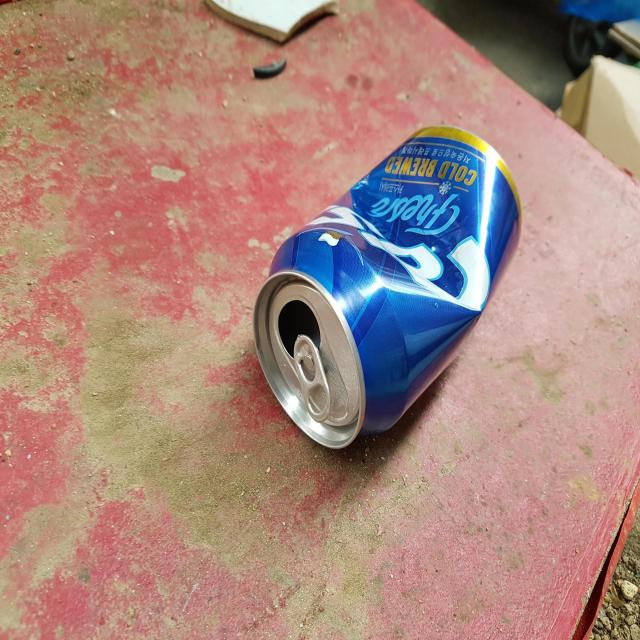can: (254, 125, 522, 448)
